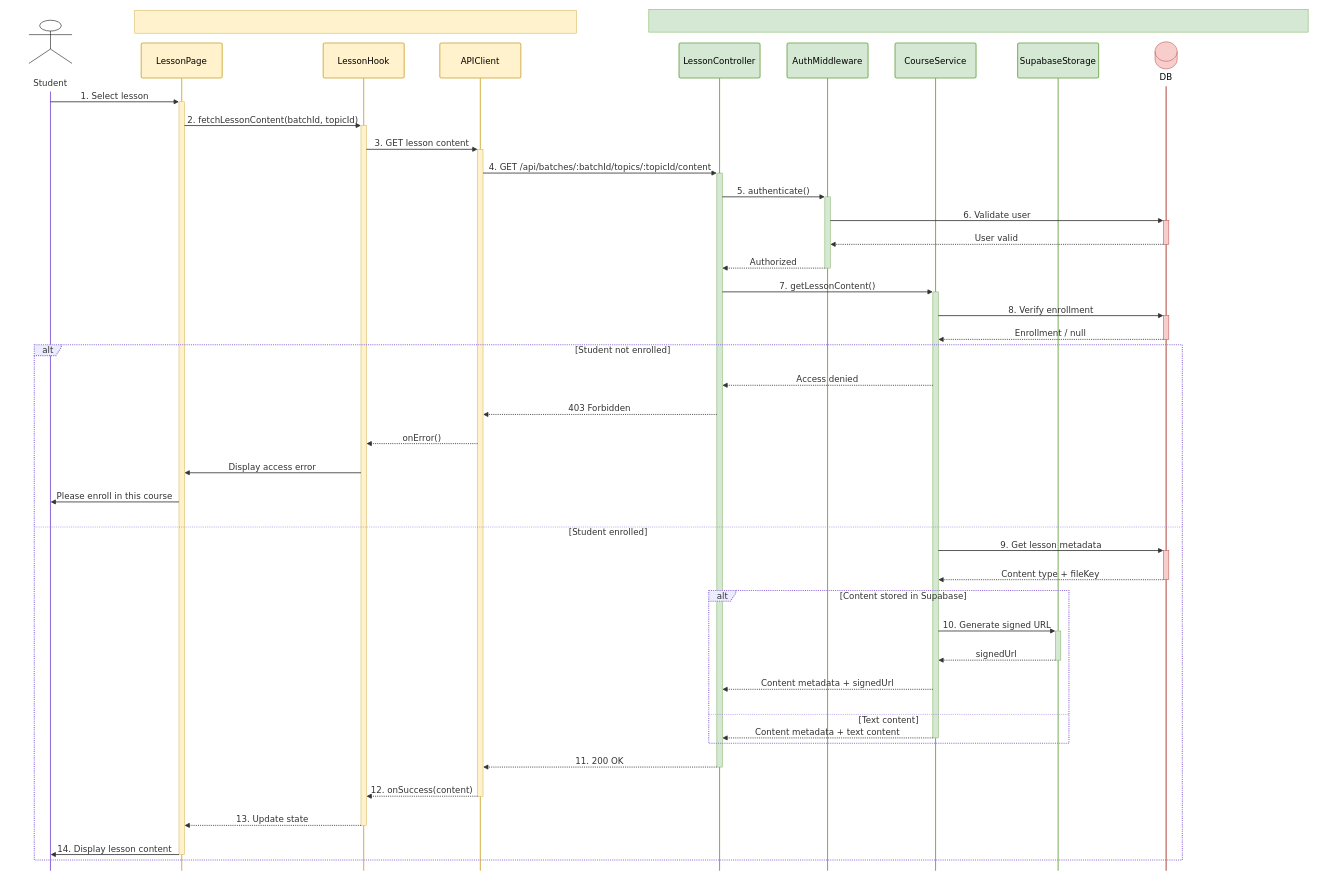
The diagram is 1318 pixels wide and 881 high, and some of its shapes have lost their labels. Each missing label, with the centre of its shape:
Backend: pixel 978 20
Frontend: pixel 355 21
